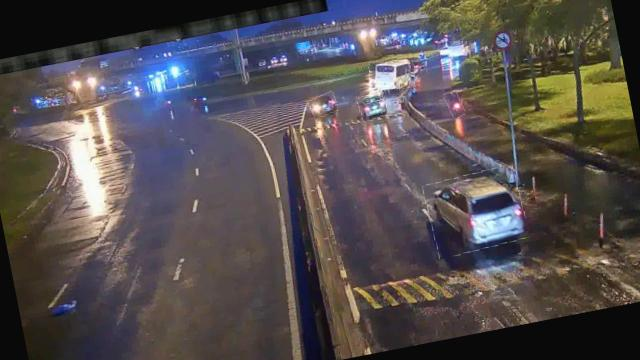Bike: (444, 89, 466, 119)
Bus: (366, 56, 418, 93)
Car: (422, 164, 529, 258), (358, 90, 388, 121), (308, 92, 339, 118)
